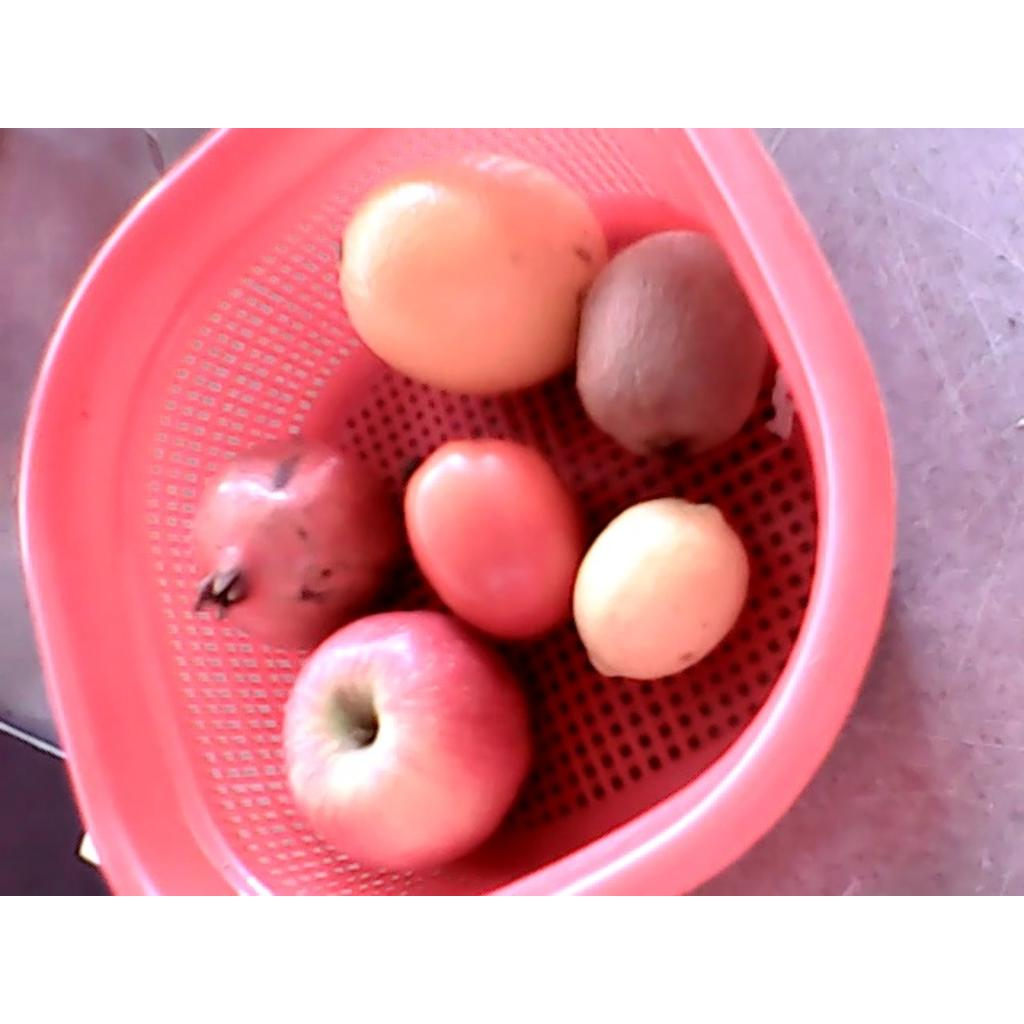apple: (283, 609, 537, 873)
kiwi: (576, 232, 766, 458)
lemon: (573, 498, 750, 680)
orange: (339, 149, 610, 395)
pomegranate: (192, 434, 397, 653)
tomato: (405, 439, 592, 640)
